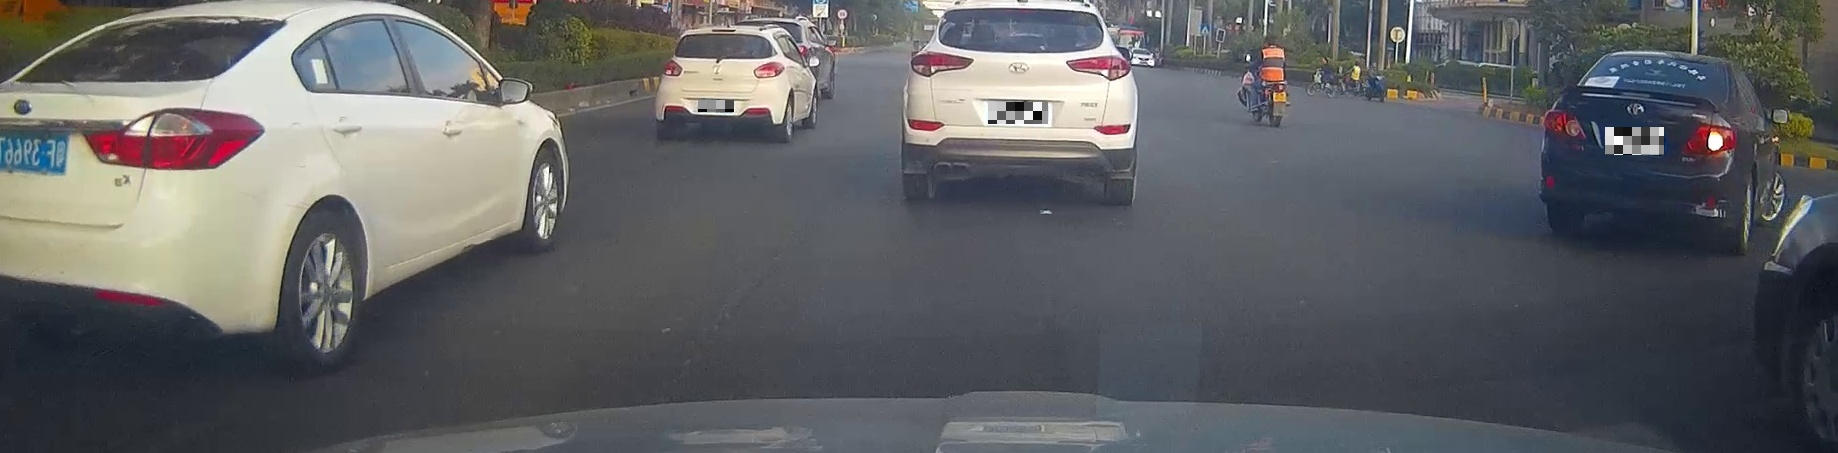L_light: (908, 50, 974, 77), (1541, 107, 1587, 140), (662, 58, 683, 76)
R_light: (1066, 54, 1132, 81), (1682, 122, 1737, 154), (754, 61, 785, 77)
T_light: (1646, 55, 1667, 63), (1005, 9, 1040, 14), (712, 29, 736, 32)
day-no: (899, 0, 1138, 203), (654, 26, 787, 143)
day-right: (1539, 50, 1742, 253)
plate_1: (697, 100, 734, 111)
plate_2: (988, 102, 1048, 124)
plate_3: (1605, 127, 1665, 155)
